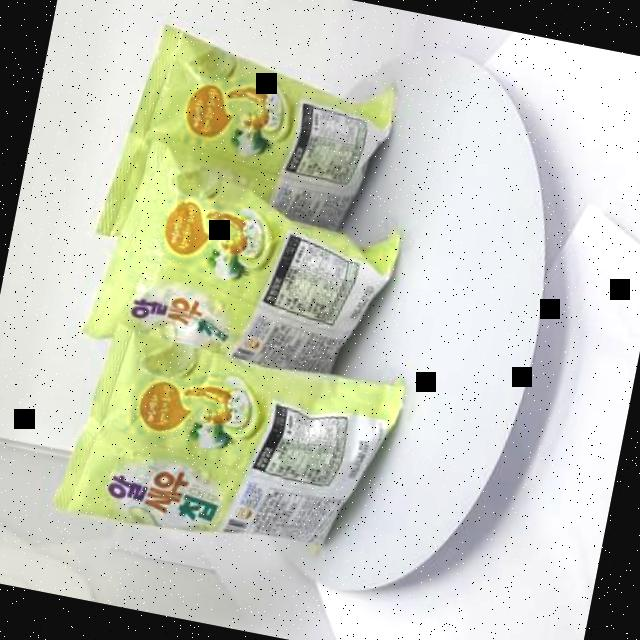snack_bag: (21, 0, 466, 593)
